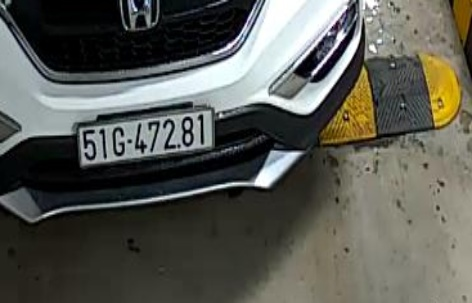plate: (73, 109, 218, 163)
